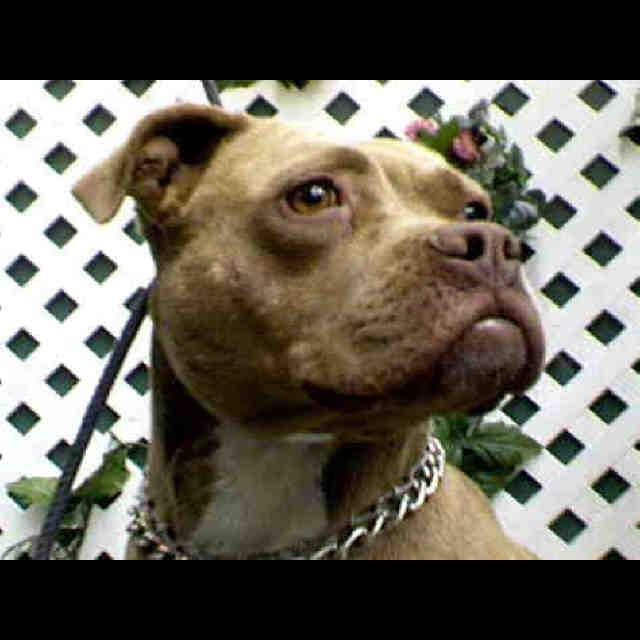staffford: (71, 101, 548, 559)
